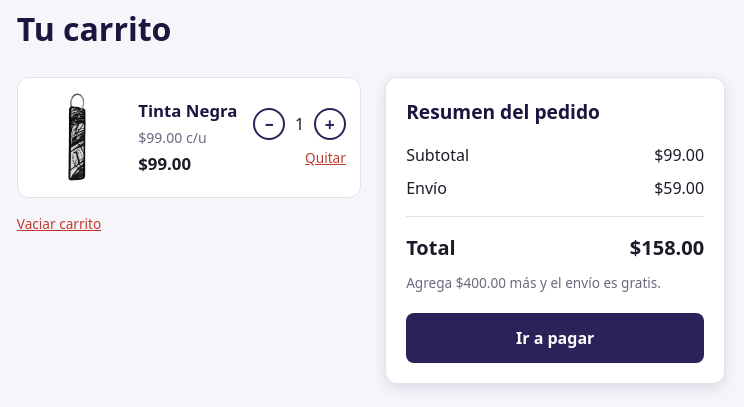
Test: Cart › aumenta la cantidad de un producto
Click the button named "Aumentar cantidad de Tinta Negra" at (330,124), box [314,108,346,140]
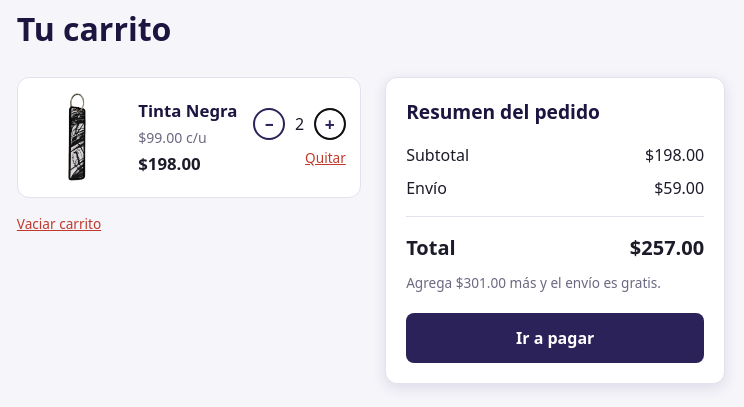
Result: the text named "Cantidad de Tinta Negra" reads "2" at [295,113,304,135]
